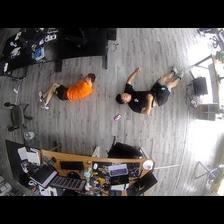fall: (116, 63, 183, 114), (38, 72, 99, 111)
